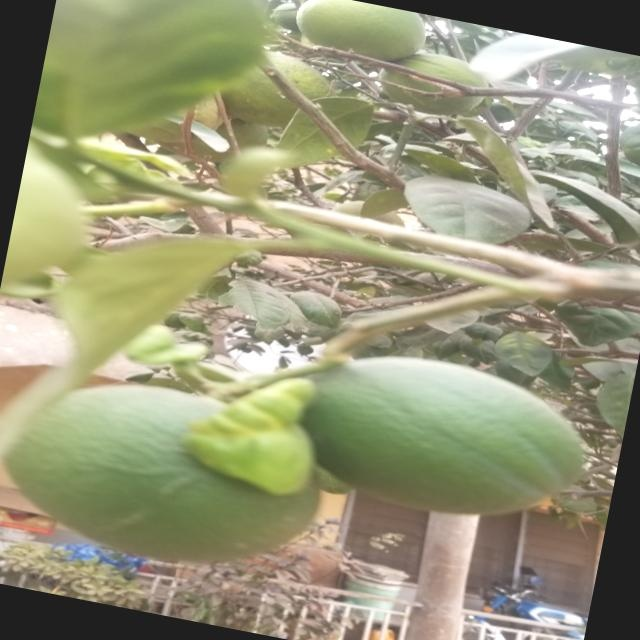agrume: (270, 328, 615, 550)
